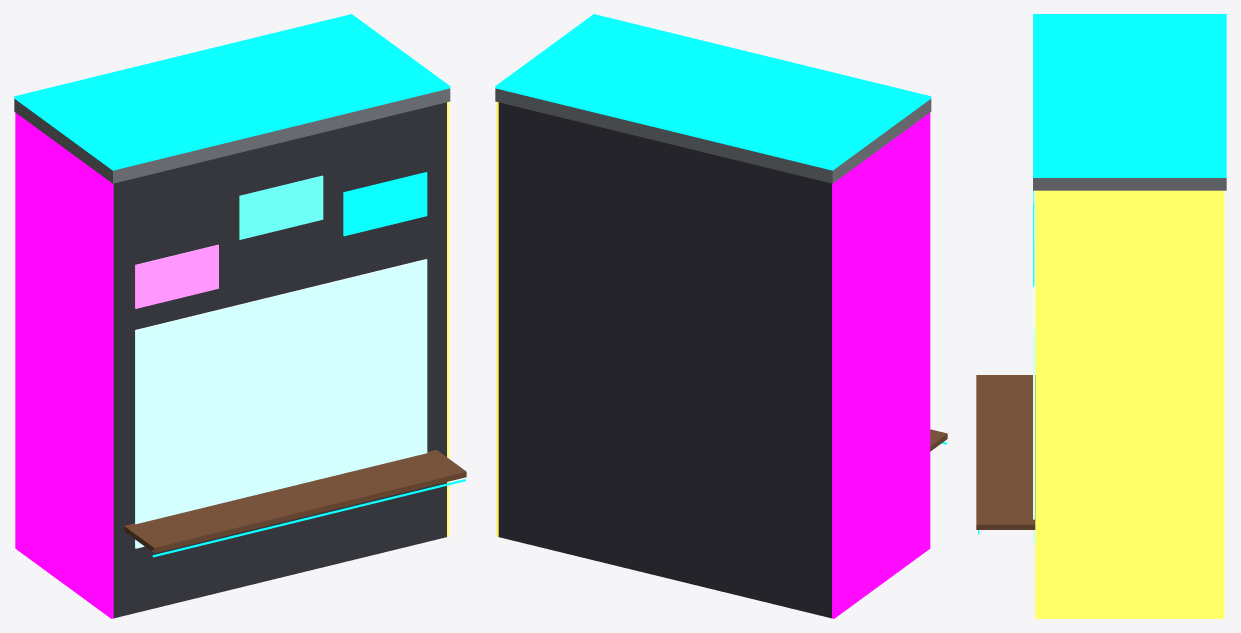
The model's file is NEON_BLD_Market_MD.glb.
3 renders of one model, left to right at view 1: azimuth 30°, elevation 25°; view 2: azimuth 150°, elevation 25°; view 3: azimuth 270°, elevation 25°, orthographic.
Visible parts, largest first — view 1: NEON_BLD_Market_MD; view 2: NEON_BLD_Market_MD; view 3: NEON_BLD_Market_MD.
Part boxes in pixels (left/top/right/bottom): NEON_BLD_Market_MD: left=14, top=14, right=466, bottom=618; NEON_BLD_Market_MD: left=495, top=14, right=947, bottom=618; NEON_BLD_Market_MD: left=976, top=14, right=1226, bottom=618.
Size of the model in its own units: 16.22 by 20.7 by 10.6.
